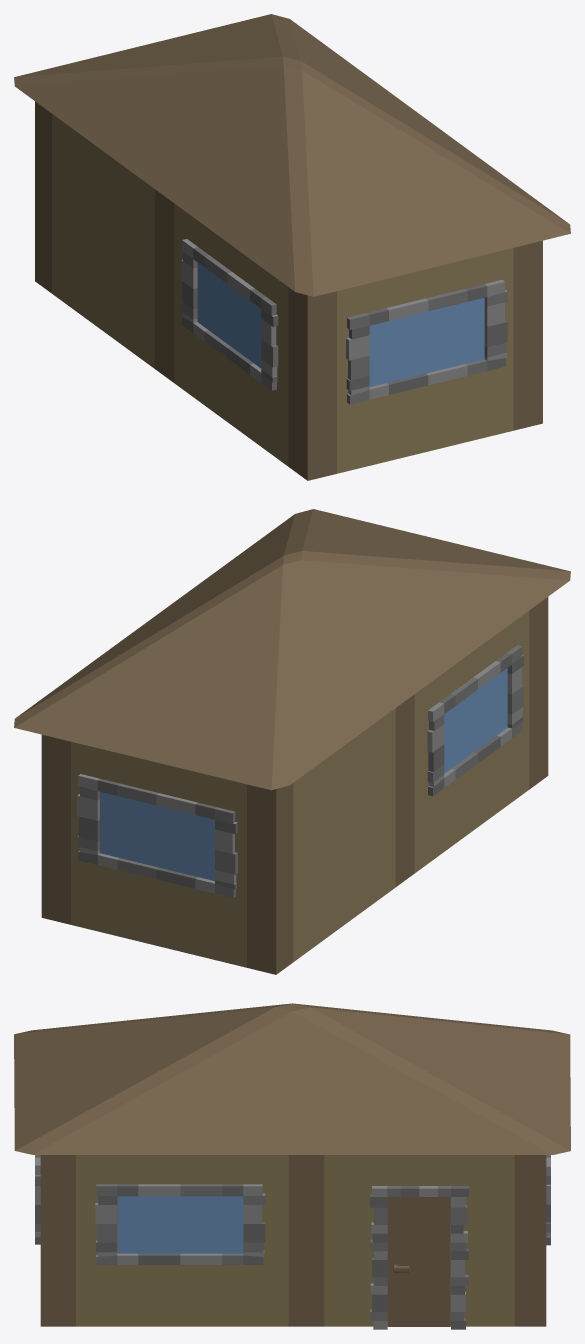
Rendered from CasitaMedia.fbx.
3 views of the same model, one above another, from view 1: azimuth 30°, elevation 25°; view 2: azimuth 150°, elevation 25°; view 3: azimuth 270°, elevation 25° (orthographic). The views are drawn at different scales.
Visible parts, largest first — view 1: Tejado, Casa, Ventana, VoraVentana, VoraVentana.001, Ventana.001; view 2: Tejado, Casa, Ventana, VoraVentana, VoraVentana.001, Ventana.001; view 3: Tejado, Casa, Puerta, Ventana.001, VoraVentana.001, VoraPuerta, VoraVentana.
Part boxes in pixels (<box>): Tejado: <box>14,14,570,296</box>; Casa: <box>35,101,542,480</box>; Ventana: <box>369,298,484,386</box>; VoraVentana: <box>346,280,507,404</box>; VoraVentana.001: <box>181,239,278,390</box>; Ventana.001: <box>197,262,261,368</box>; Tejado: <box>14,509,570,790</box>; Casa: <box>41,571,548,974</box>; Ventana: <box>100,792,214,880</box>; VoraVentana: <box>77,774,237,897</box>; VoraVentana.001: <box>427,645,523,796</box>; Ventana.001: <box>444,668,507,773</box>; Tejado: <box>14,1003,570,1154</box>; Casa: <box>40,1030,546,1326</box>; Puerta: <box>388,1197,450,1326</box>; Ventana.001: <box>117,1196,243,1253</box>; VoraVentana.001: <box>95,1184,265,1264</box>; VoraPuerta: <box>370,1186,468,1329</box>; VoraVentana: <box>35,1155,550,1245</box>.
Size of the model in its own units: 349 by 349 by 659.
